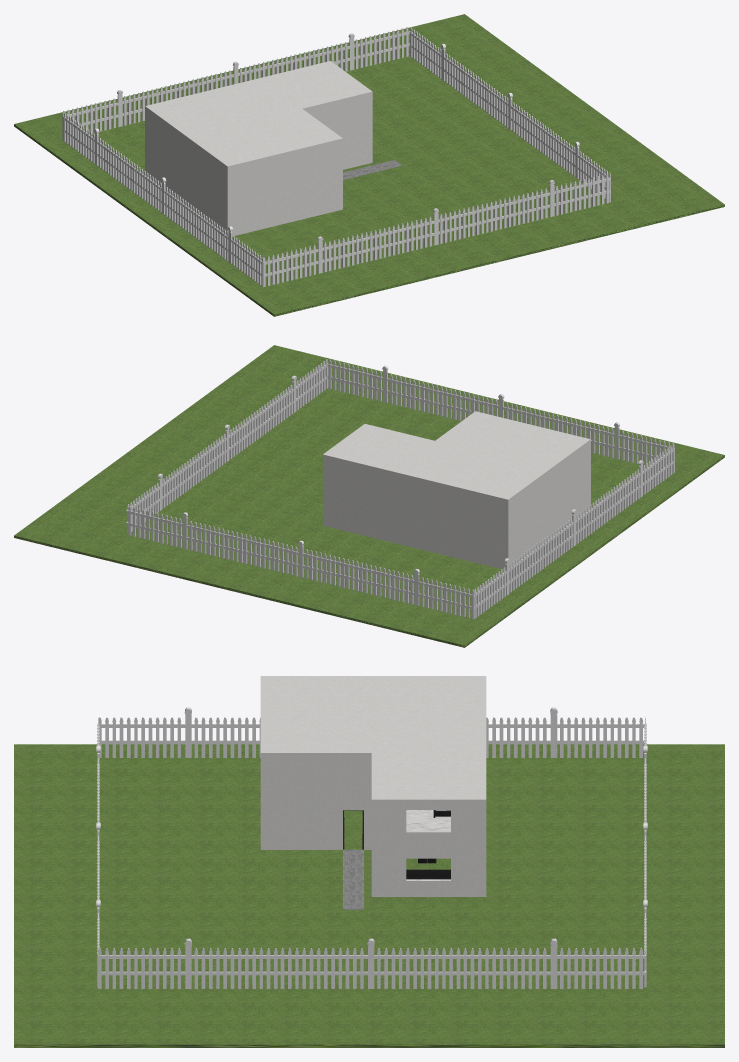
The model's file is opacos.fbx.
3 views of the same model, one above another, from view 1: azimuth 30°, elevation 25°; view 2: azimuth 150°, elevation 25°; view 3: azimuth 270°, elevation 25° (orthographic). The views are drawn at different scales.
Visible parts, largest first — view 1: Suelo, FencePost24.002, P2_techo, P2_pared, PB_Pared; view 2: Suelo, FencePost24.002, P2_techo, P2_pared, PB_Pared; view 3: Suelo, FencePost24.002, P2_techo, P2_pared, PB_Pared, Banqueta, PB_techo.
Boxes of the visible parts, x1,y1,x2,y2 form: Suelo: (14,14,724,316); FencePost24.002: (62,27,610,287); P2_techo: (149,62,368,164); P2_pared: (145,61,372,201); PB_Pared: (145,127,372,236); Suelo: (14,345,724,647); FencePost24.002: (126,359,674,619); P2_techo: (327,413,586,497); P2_pared: (323,411,590,535); PB_Pared: (323,475,590,569); Suelo: (14,744,724,1047); FencePost24.002: (96,707,647,988); P2_techo: (265,677,482,797); P2_pared: (260,676,486,848); PB_Pared: (260,801,486,896); Banqueta: (343,849,363,909); PB_techo: (406,810,450,830).
Bounding box in the file's own units: 4000 × 624 × 4000.
